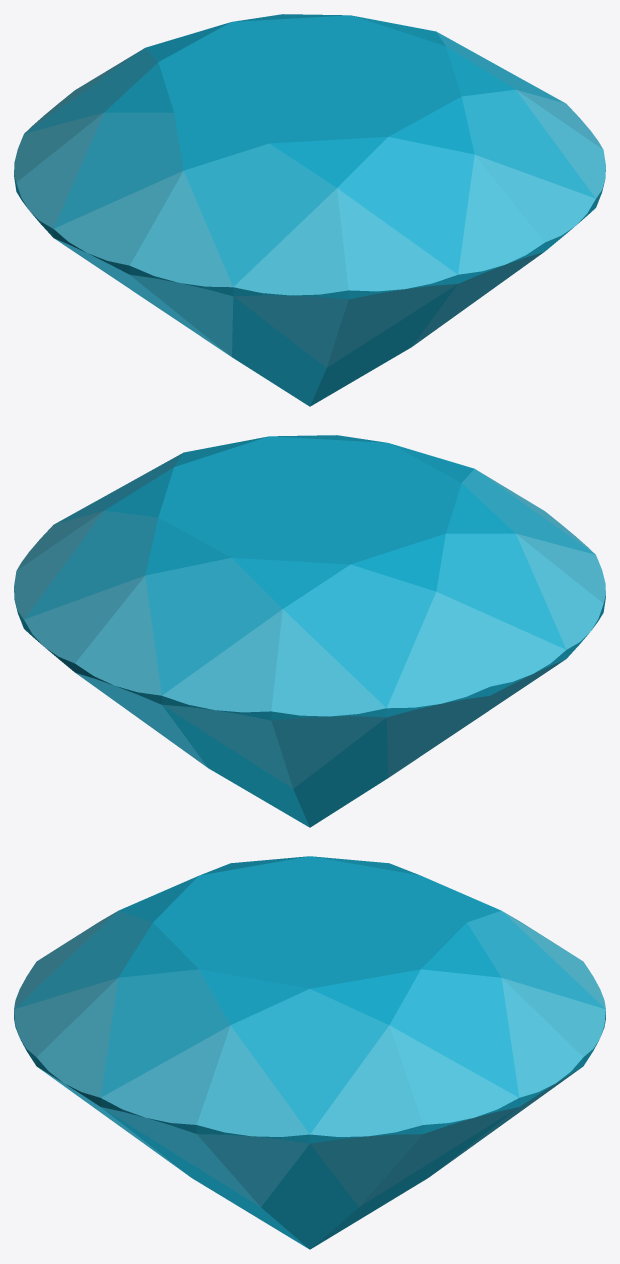
The model's file is Diamond.fbx.
The picture shows the model from 3 angles, top to bottom: view 1: azimuth 30°, elevation 25°; view 2: azimuth 150°, elevation 25°; view 3: azimuth 270°, elevation 25°; orthographic projection.
Parts seen in each view (by area): view 1: Diamond; view 2: Diamond; view 3: Diamond.
Part boxes in pixels (left/top/right/bottom): Diamond: left=14, top=14, right=605, bottom=406; Diamond: left=14, top=435, right=605, bottom=827; Diamond: left=14, top=856, right=605, bottom=1249.
Bounding box in the file's own units: 200 × 122 × 200.
